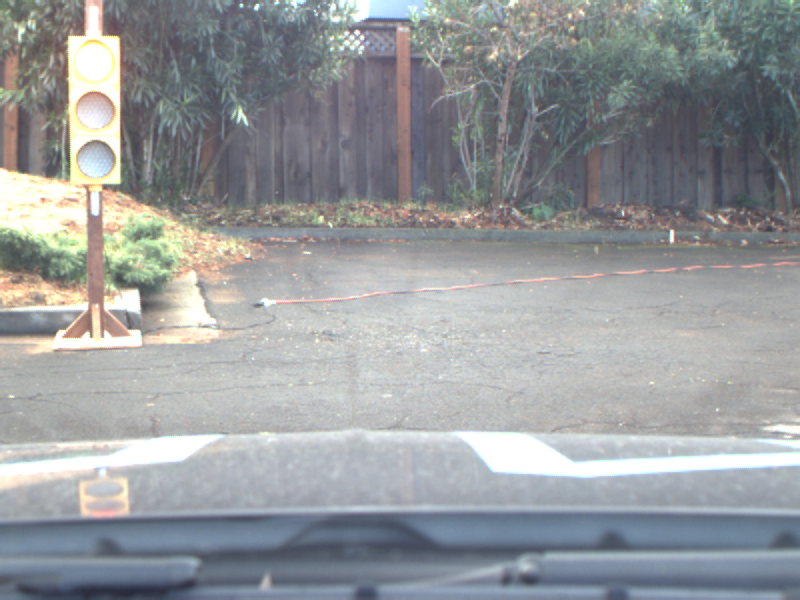Red: (67, 36, 120, 185)
